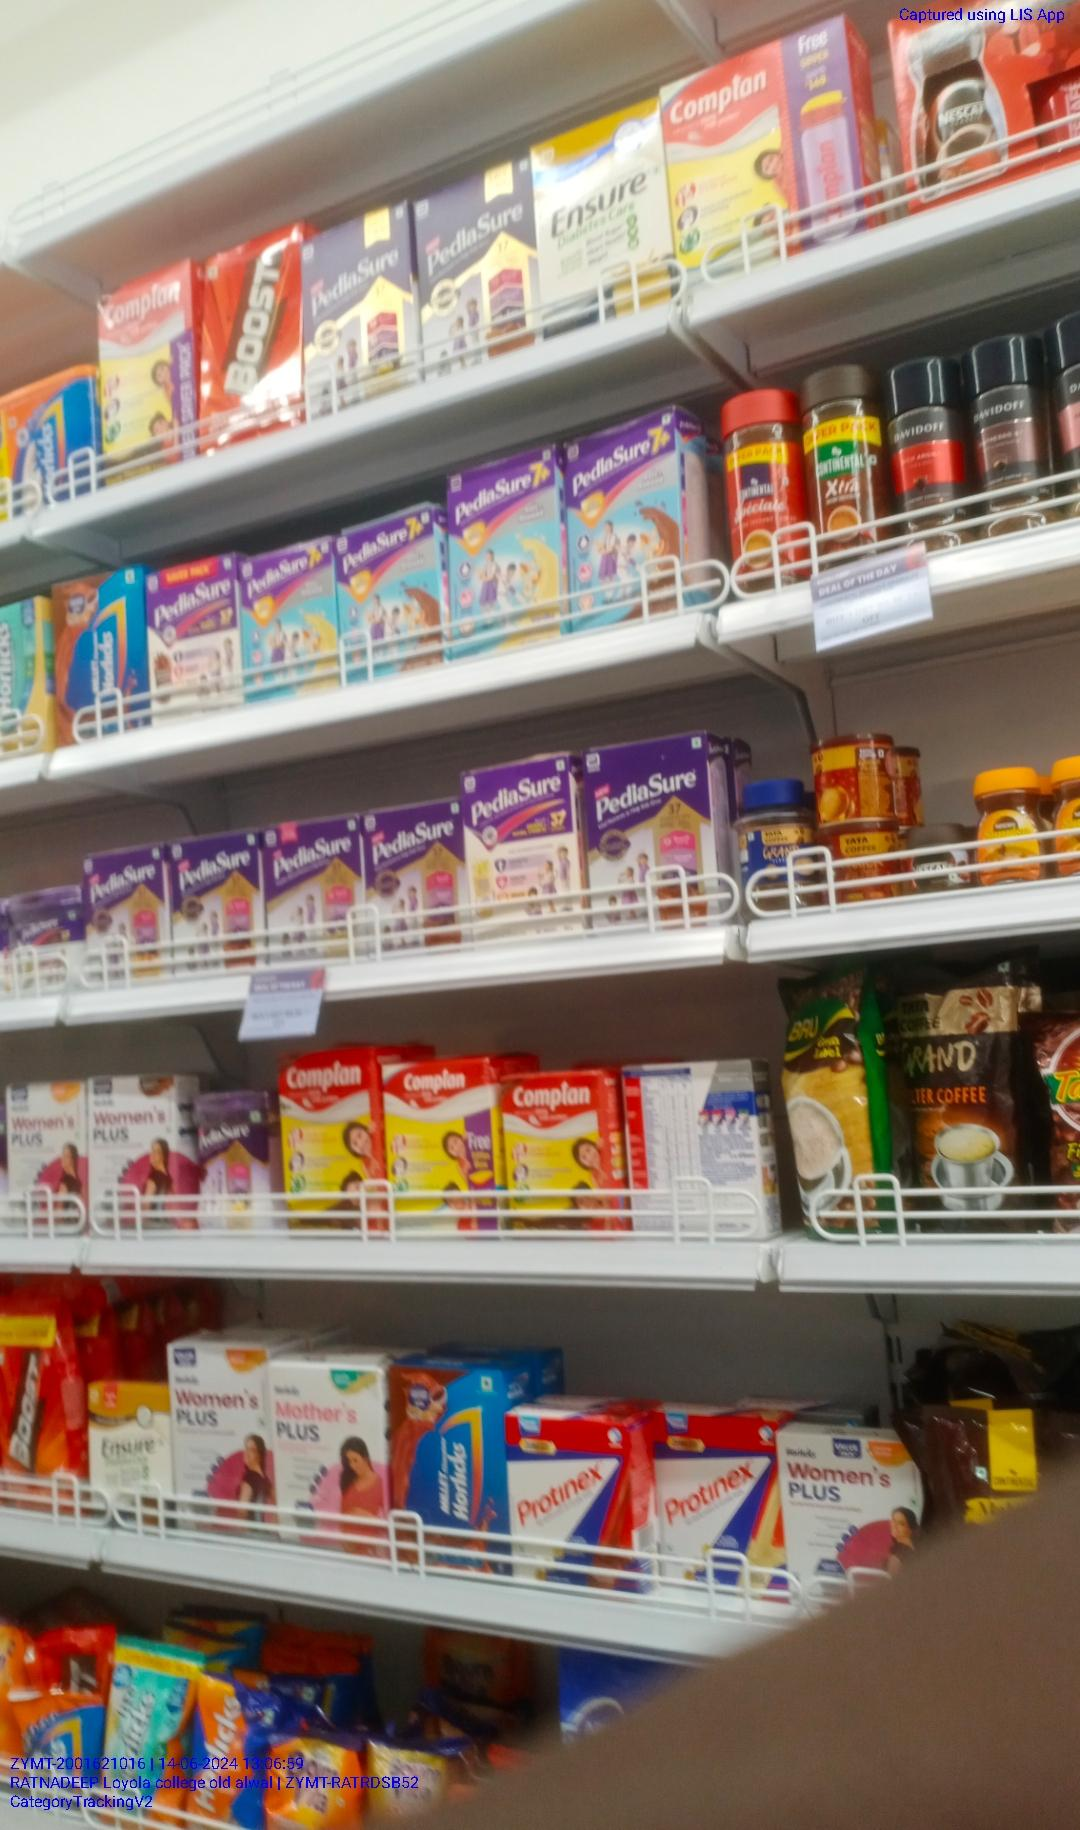COMPLAN_CHOCOLATE_200_GMS_PACK: (282, 1055, 377, 1232), (500, 1073, 600, 1231)
COMPLAN_CREAMY_CLASSIC_500_G_PACK: (383, 1059, 492, 1238)
PEDIASURE_7_PLUS_CHOCOLATE_400_G_PACK: (567, 416, 679, 618), (339, 509, 437, 666)
